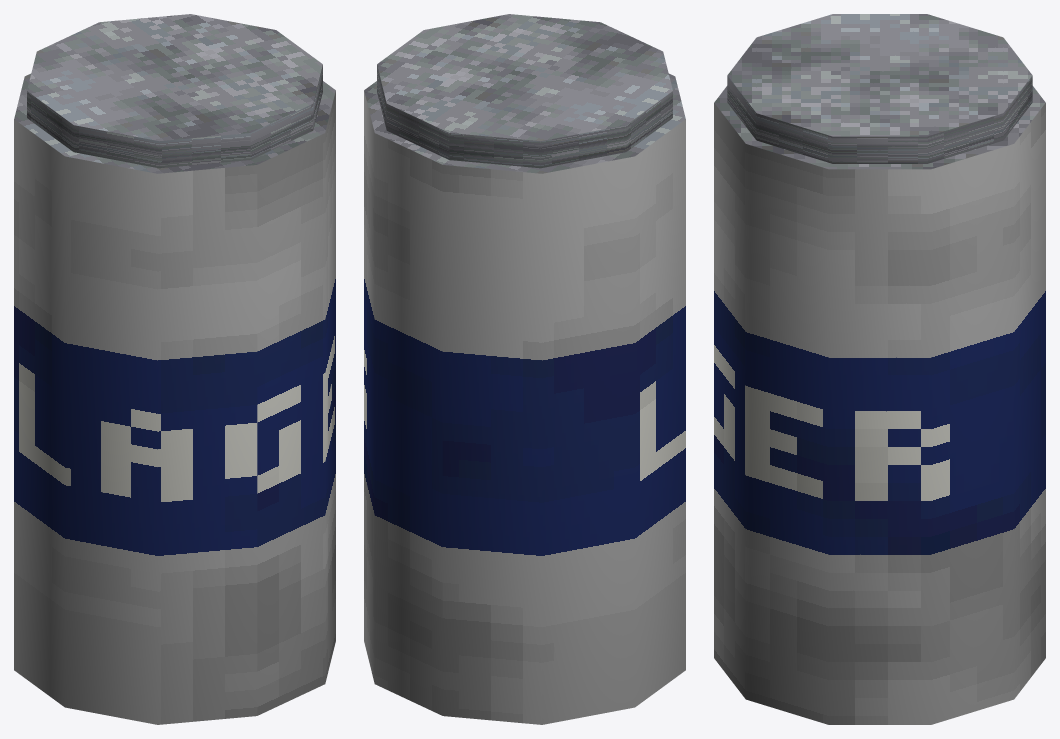
The model's file is beer_can.glb.
3 renders of one model, left to right at view 1: azimuth 30°, elevation 25°; view 2: azimuth 150°, elevation 25°; view 3: azimuth 270°, elevation 25°, orthographic.
Visible parts, largest first — view 1: beer_can; view 2: beer_can; view 3: beer_can.
Boxes of the visible parts, box(x1,y1,x2,y2) form: beer_can: box(14, 14, 335, 724); beer_can: box(364, 14, 685, 724); beer_can: box(714, 14, 1045, 724).
Size of the model in its own units: 0.0628 by 0.128 by 0.066.
Materials: 1 (1 with a texture image).
